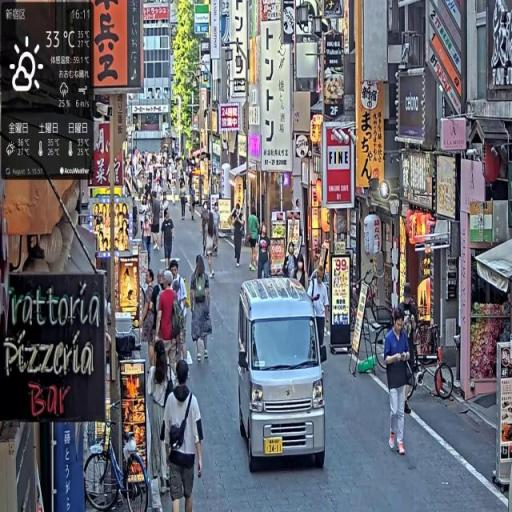person: (163, 357, 205, 512), (384, 309, 415, 457), (149, 342, 176, 495), (191, 256, 213, 364), (232, 202, 247, 268), (247, 206, 262, 272), (161, 208, 176, 273), (258, 222, 272, 280), (152, 192, 165, 253), (180, 181, 189, 222)
